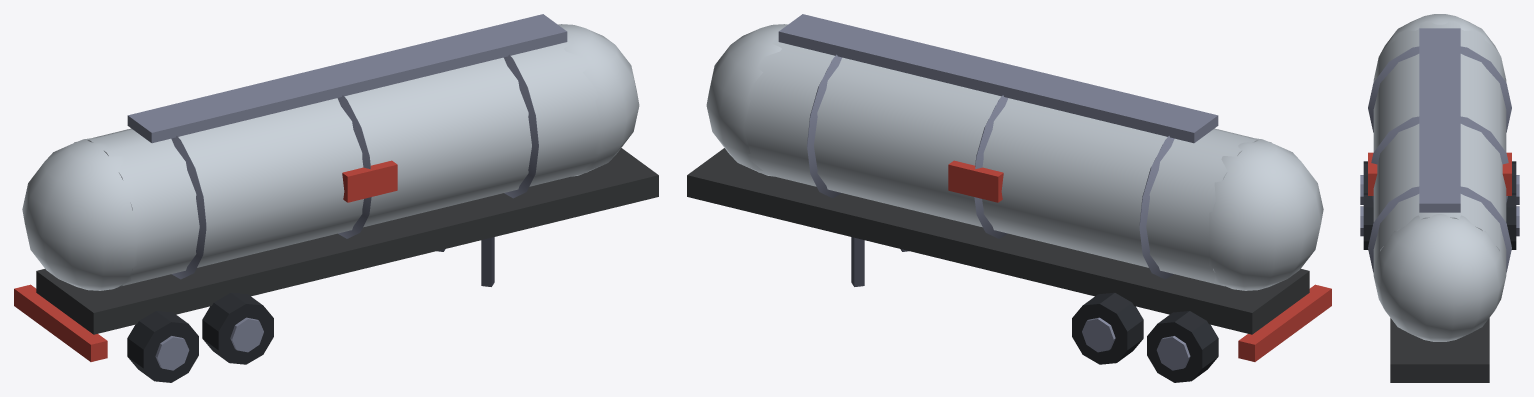
Rendered from semi.trailer-tanker.glb.
3 views of the same model, side by side, from view 1: azimuth 30°, elevation 25°; view 2: azimuth 150°, elevation 25°; view 3: azimuth 270°, elevation 25° (orthographic). The views are drawn at different scales.
Parts seen in each view (by area): view 1: model; view 2: model; view 3: model.
Part boxes in pixels (bbox=[...]): model: bbox=[14, 14, 658, 382]; model: bbox=[687, 14, 1331, 382]; model: bbox=[1360, 14, 1519, 382].
Size of the model in its own units: 0.718 by 0.257 by 0.192.
Materials: 1 (1 with a texture image).
